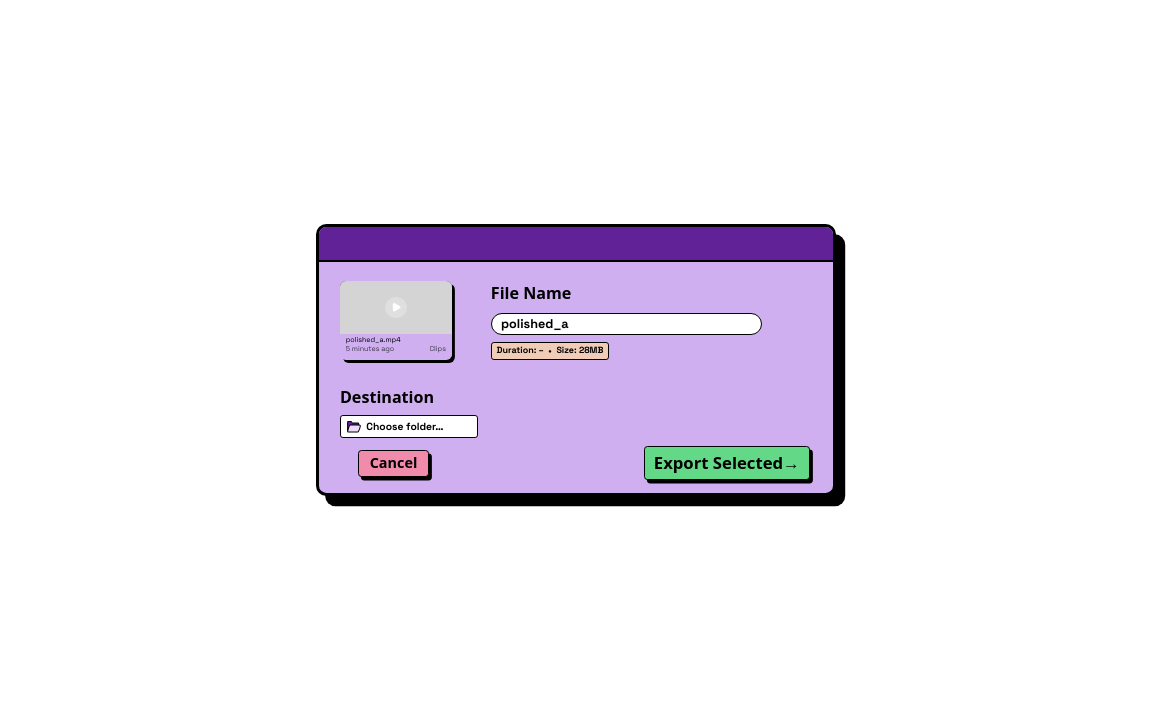
Test case: export dialog › shows the chosen destination
Click the button "Choose folder…". click: point(409, 427)
box: [340,415,478,438]
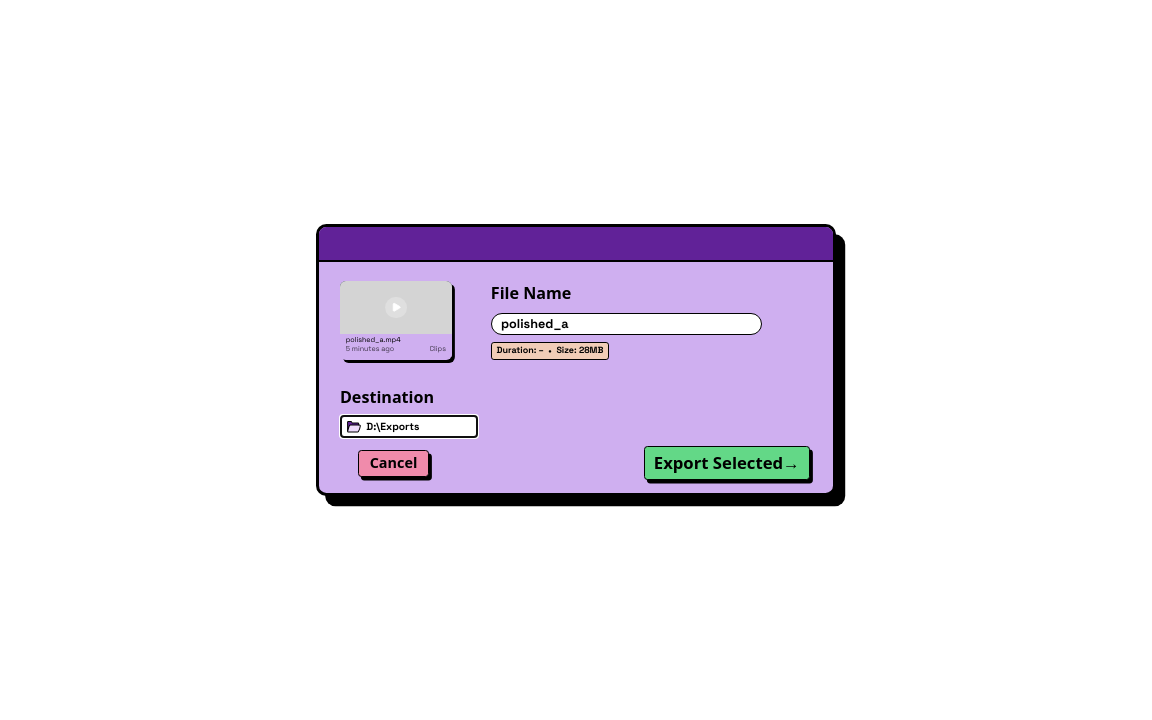
Result: the button "D:\\Exports" is shown at [340,415,478,438]
